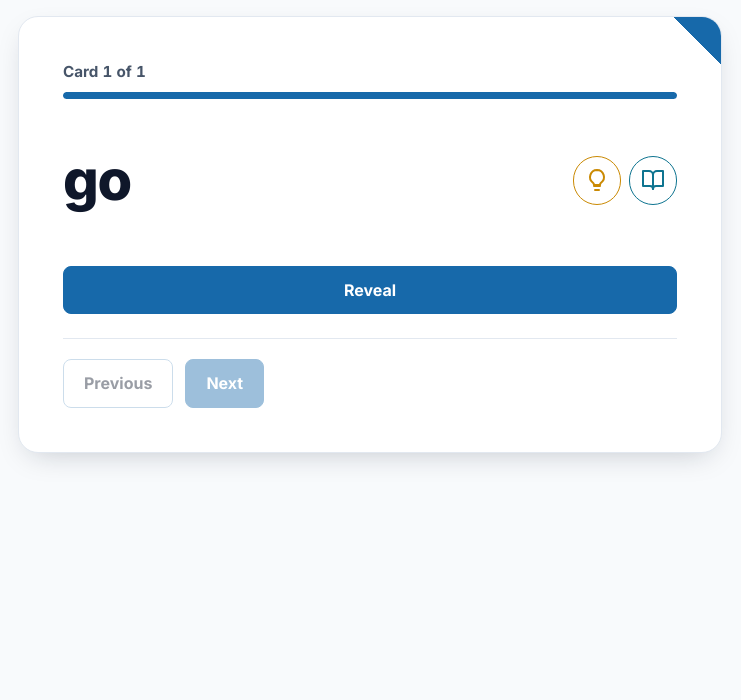
Scenario: Flashcard › hides past forms before Reveal and shows them after
The image size is (741, 700).
Expected: the heading "go" is shown, [63,146,131,214]
Expected: the text "went" is not shown
Click the button "Reveal".
click(370, 290)  # box [63,266,677,314]
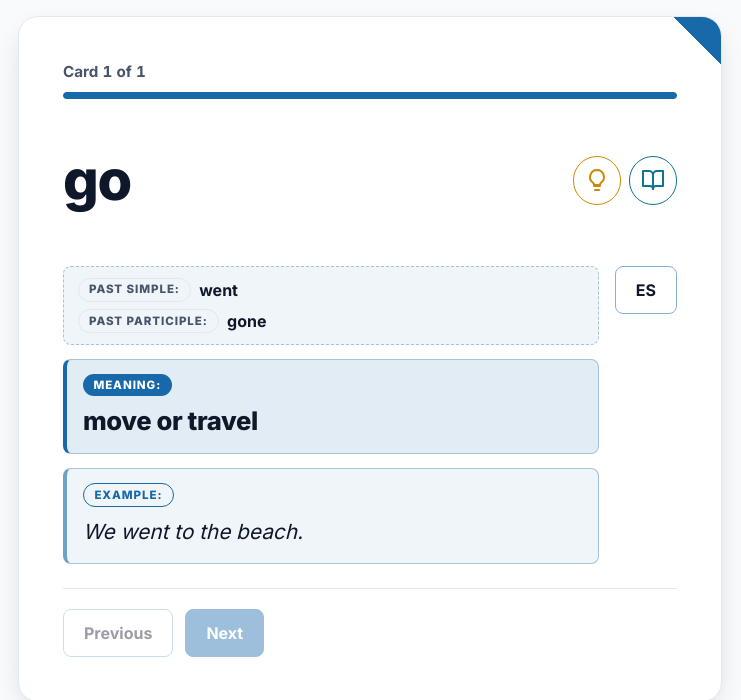
Now the text "went" is shown, box [199,278,238,302]
Now the text "gone" is shown, box [227,309,266,333]
Now the text "Past simple:" is shown, box [78,278,191,302]
